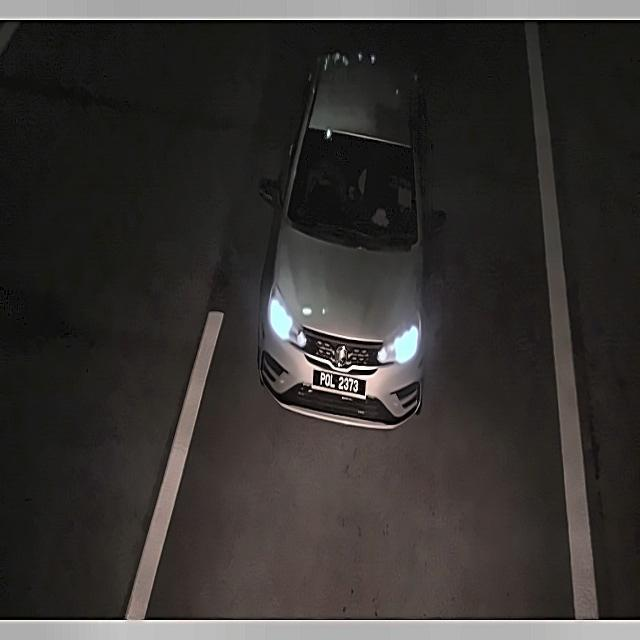car: (308, 362, 376, 403)
